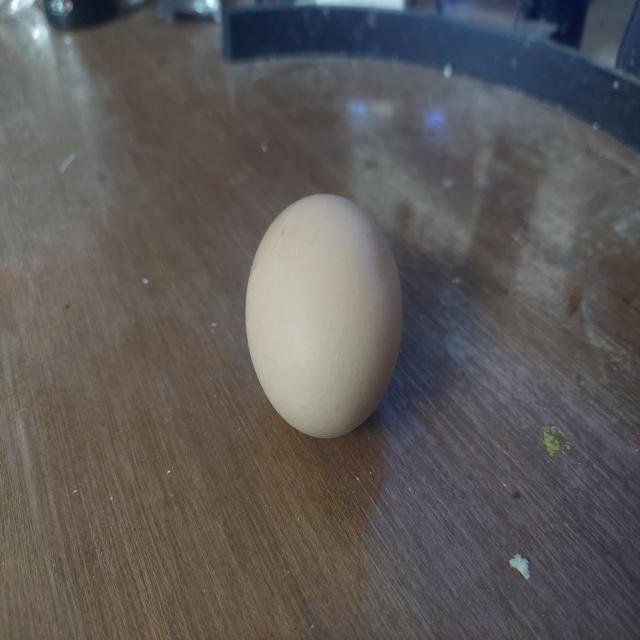egg: (232, 190, 414, 450)
